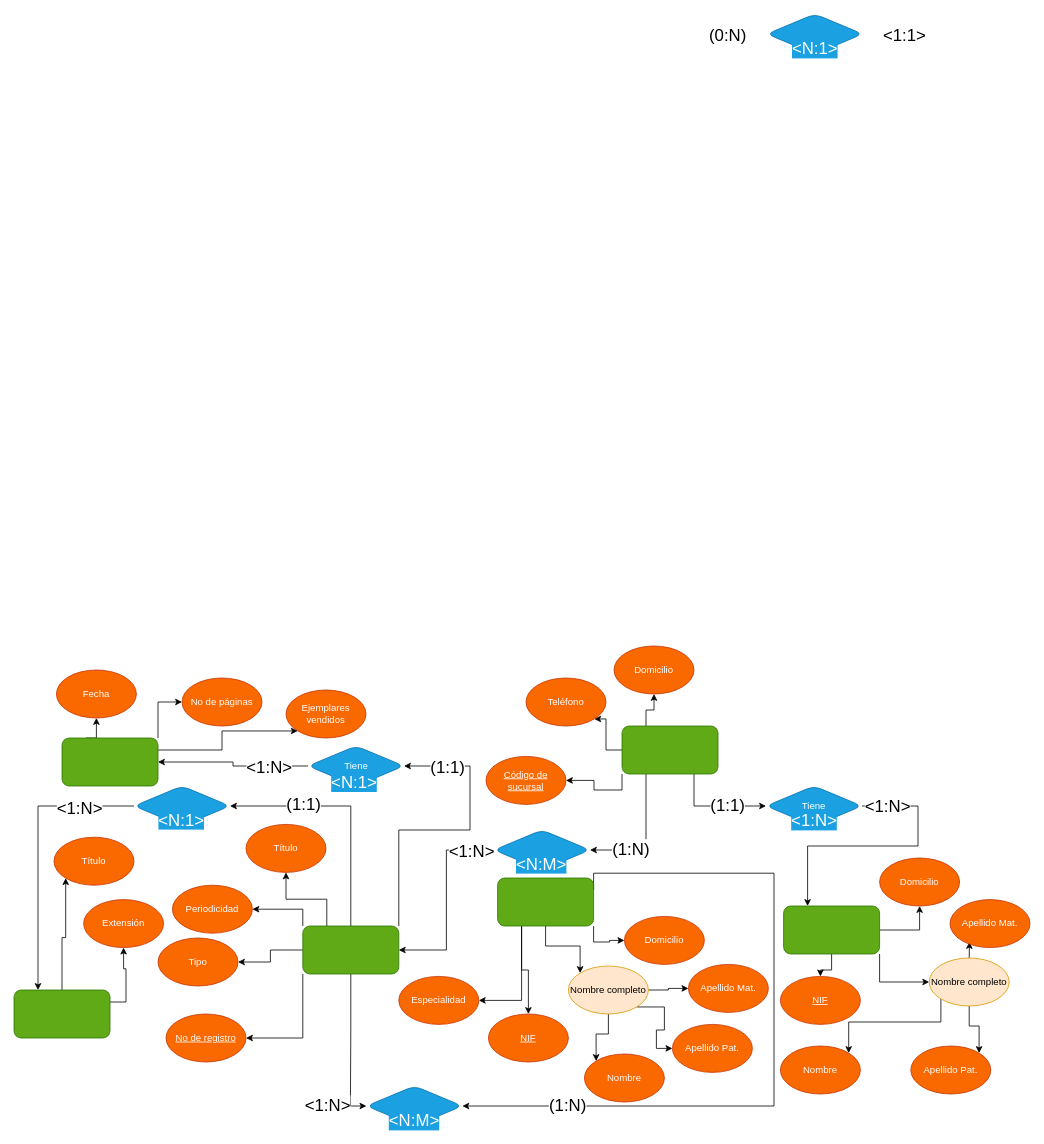
Image size: 1044x1144. Some labels were removed from this diagram. Each missing label, with the box of its shape:
Contiene: (133, 785, 230, 826)
Ejemplar: (61, 737, 158, 786)
Empleado: (783, 905, 880, 954)
Escriben: (366, 1085, 462, 1126)
Hace: (766, 13, 863, 54)
Periodista: (497, 877, 594, 926)
Publica: (493, 829, 590, 870)
Revista: (302, 925, 399, 974)
Secciones fijas: (13, 989, 110, 1038)
Sucursal: (621, 725, 718, 774)
